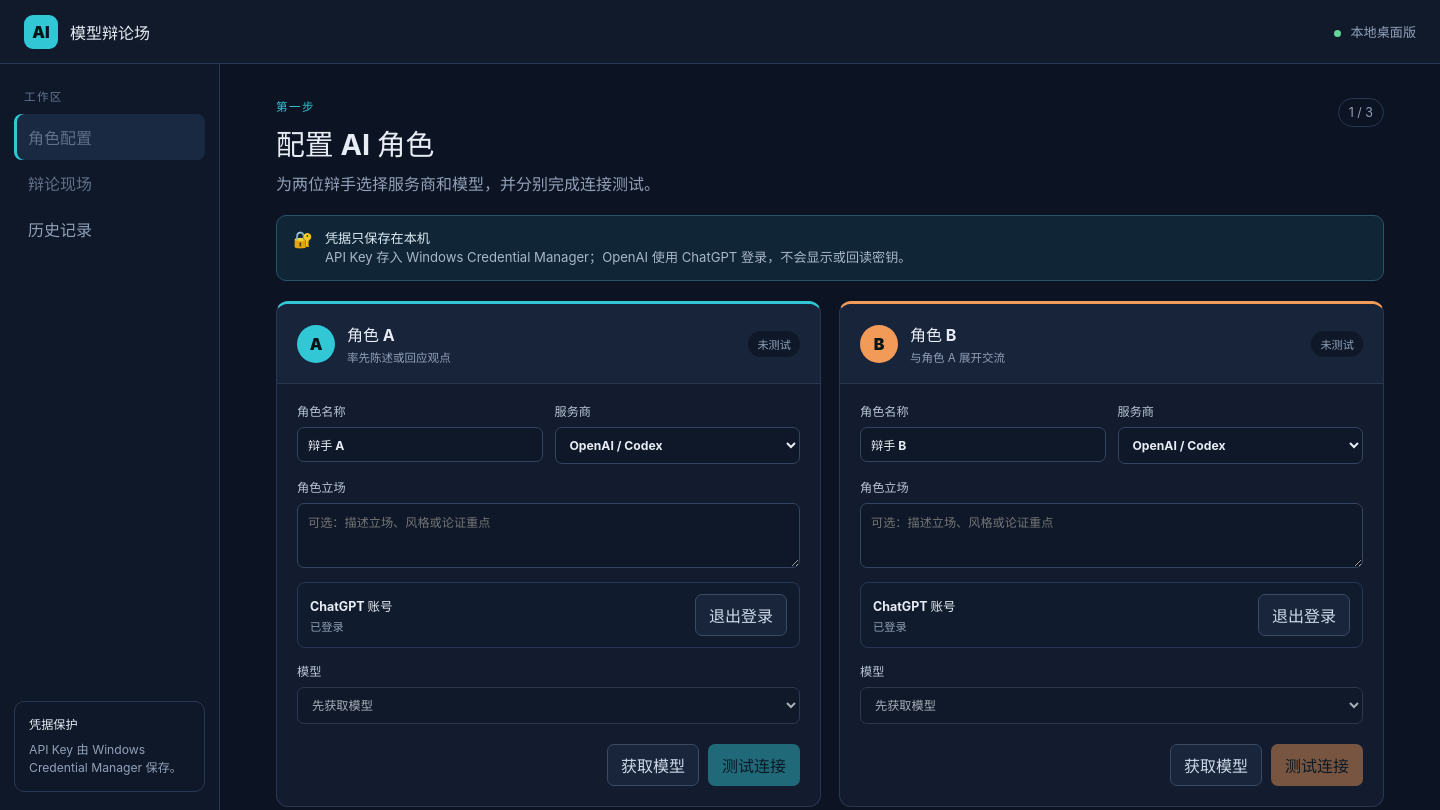
configuration navigation › opens history and mounts a recovered session from its saved role snapshot without auto-resuming
The width and height of the screenshot is (1440, 810).
Click the button "历史记录": (110, 229) [14,206,205,252]
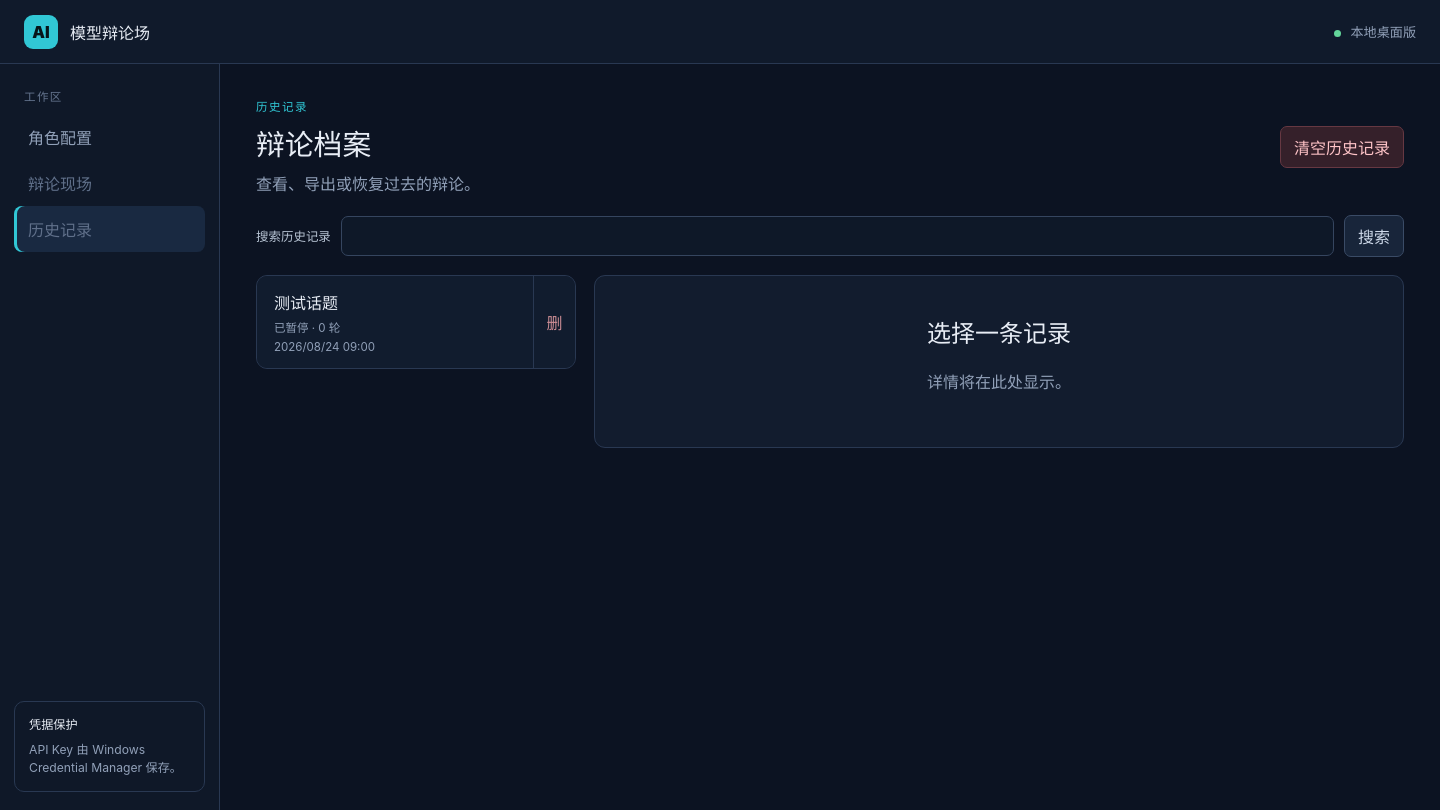
Expected: the heading "辩论档案" is shown, [256,127,371,162]
Click the button with aria-label "查看测试话题": (306, 303) [257,276,533,368]
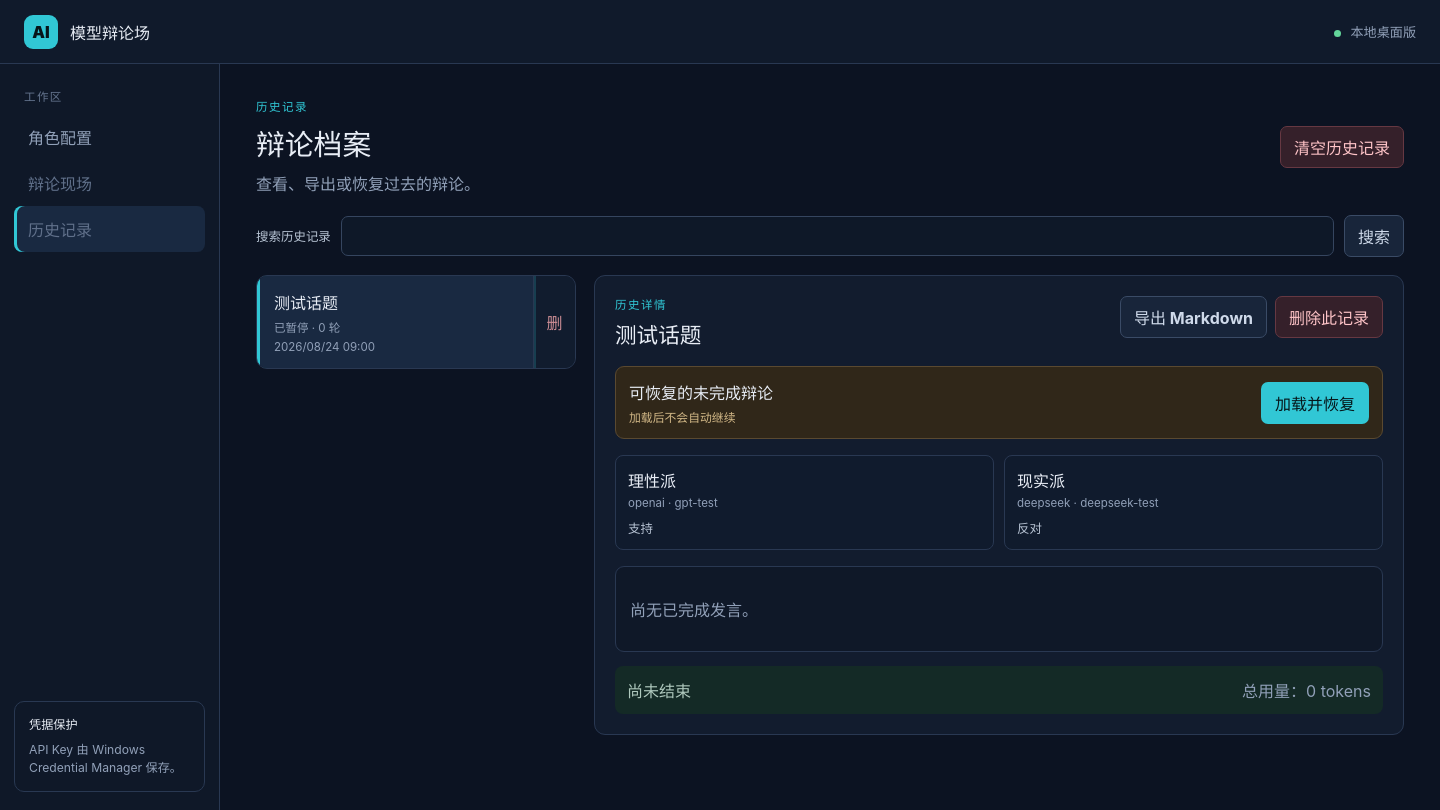
Click the button "加载并恢复": (1315, 403) [1261,382,1369,424]
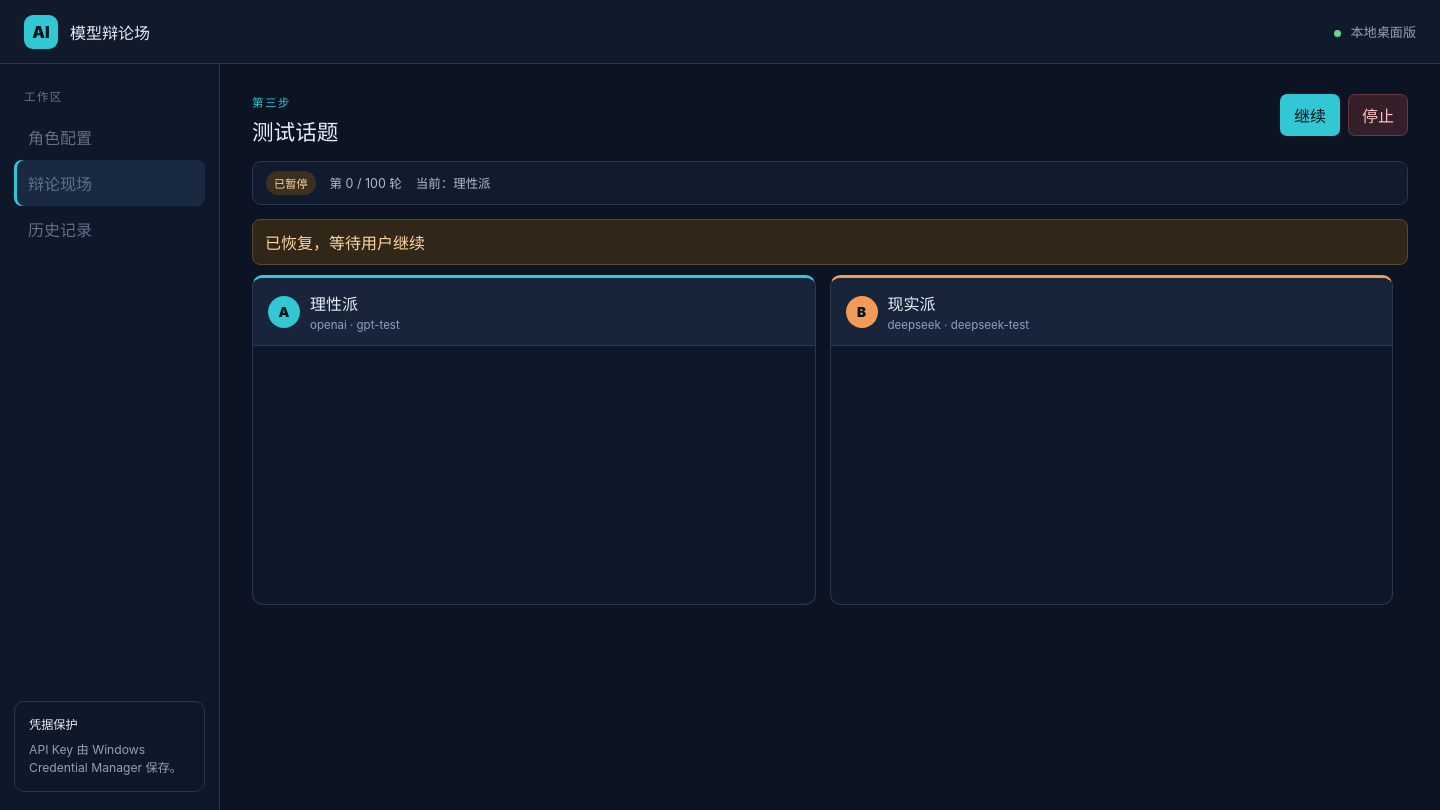
Expected: the button "历史记录" is disabled, [14,206,205,252]
Expected: the text "已恢复，等待用户继续" is shown, [252,219,1408,265]
Expected: the button "角色配置" is disabled, [14,114,205,160]
